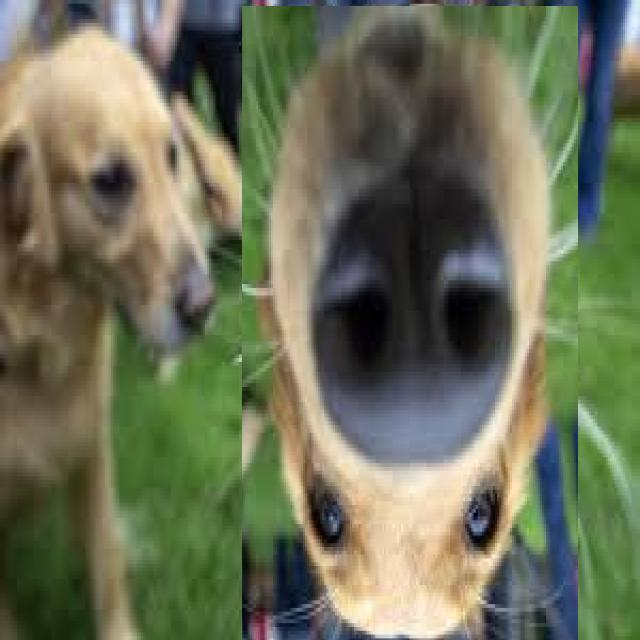dog: (242, 6, 578, 640)
